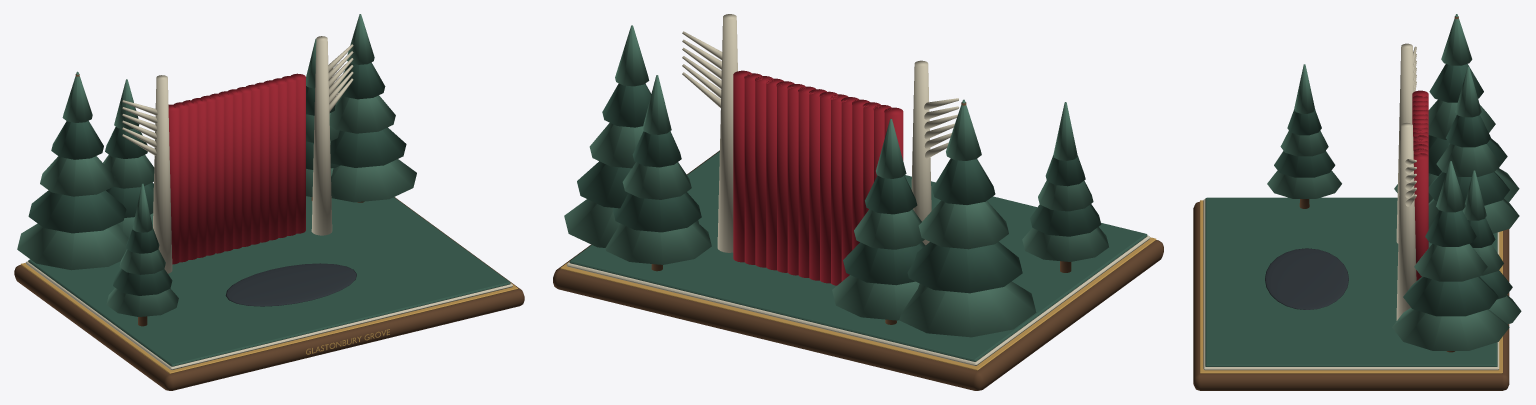
File: grove.glb
The picture shows the model from 3 angles, left to right: view 1: azimuth 30°, elevation 25°; view 2: azimuth 150°, elevation 25°; view 3: azimuth 270°, elevation 25°; orthographic projection. The views are drawn at different scales.
Visible parts, largest first — view 1: Moss earth.003, Walnut display plinth.008, Black oil pool, Fir canopy.075, Sycamore trunk.001, Fir canopy.076, Sycamore trunk, Fir canopy.085, Fir canopy.086, Fir canopy.077, Inset brass rim.008, Stage floor.008 (+29 smaller); view 2: Moss earth.003, Walnut display plinth.008, Fir canopy.075, Fir canopy.076, Sycamore trunk.001, Fir canopy.077, Fir canopy.090, Inset brass rim.008, Stage floor.008, Fir canopy.080, Fir canopy.091, Sycamore trunk (+34 smaller); view 3: Moss earth.003, Walnut display plinth.008, Black oil pool, Fir canopy.085, Fir canopy.086, Sycamore trunk.001, Inset brass rim.008, Fir canopy.087, Stage floor.008, Fir canopy.082, Fir canopy.095, Portal velvet.014 (+21 smaller).
Part boxes in pixels (bbox=[...]): Moss earth.003: bbox=[28, 196, 510, 366]; Walnut display plinth.008: bbox=[14, 197, 524, 390]; Black oil pool: bbox=[225, 263, 356, 306]; Fir canopy.075: bbox=[17, 223, 128, 270]; Sycamore trunk.001: bbox=[311, 36, 332, 235]; Fir canopy.076: bbox=[28, 190, 126, 233]; Sycamore trunk: bbox=[153, 75, 172, 273]; Fir canopy.085: bbox=[331, 159, 416, 202]; Fir canopy.086: bbox=[330, 127, 406, 167]; Fir canopy.077: bbox=[40, 156, 115, 196]; Inset brass rim.008: bbox=[20, 263, 518, 373]; Stage floor.008: bbox=[26, 261, 512, 369]; Moss earth.003: bbox=[569, 151, 1147, 361]; Walnut display plinth.008: bbox=[553, 150, 1163, 390]; Fir canopy.075: bbox=[899, 281, 1036, 337]; Fir canopy.076: bbox=[907, 241, 1022, 293]; Sycamore trunk.001: bbox=[717, 14, 737, 252]; Fir canopy.077: bbox=[918, 200, 1008, 249]; Fir canopy.090: bbox=[605, 221, 711, 264]; Inset brass rim.008: bbox=[560, 237, 1156, 370]; Stage floor.008: bbox=[566, 235, 1150, 365]; Fir canopy.080: bbox=[832, 275, 919, 320]; Fir canopy.091: bbox=[612, 192, 701, 232]; Sycamore trunk: bbox=[911, 60, 931, 245]; Moss earth.003: bbox=[1205, 197, 1497, 366]; Walnut display plinth.008: bbox=[1193, 201, 1509, 390]; Black oil pool: bbox=[1265, 248, 1348, 309]; Fir canopy.085: bbox=[1392, 308, 1509, 350]; Fir canopy.086: bbox=[1403, 276, 1498, 316]; Sycamore trunk.001: bbox=[1396, 123, 1416, 320]; Inset brass rim.008: bbox=[1200, 200, 1502, 373]; Fir canopy.087: bbox=[1414, 244, 1487, 281]; Stage floor.008: bbox=[1203, 199, 1499, 370]; Fir canopy.082: bbox=[1436, 144, 1500, 176]; Fir canopy.095: bbox=[1267, 170, 1341, 198]; Portal velvet.014: bbox=[1413, 153, 1428, 280].
Size of the model in its own units: 7.58 by 4.17 by 5.63.
